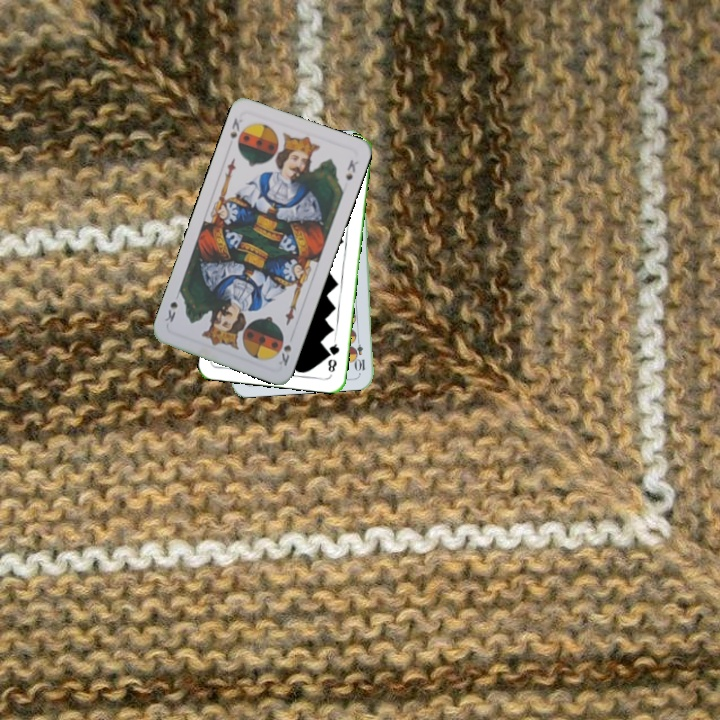E10: (352, 333, 368, 374)
G8: (324, 336, 342, 375)
SK: (274, 341, 294, 369), (226, 114, 245, 141)
